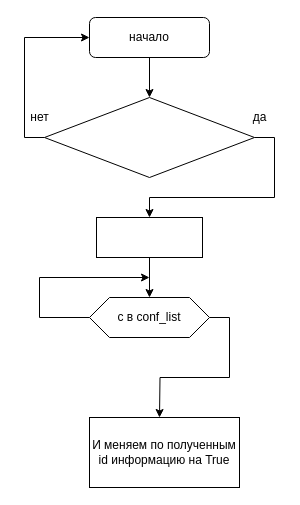
The diagram is 300 pixels wide and 505 high, and some of its shapes have lost their labels. The centre of each missing label's shape, as x and y in pixels:
"conf_list = getlist('conf')" belongs at (x=149, y=237).
"Метод POST?" belongs at (x=149, y=137).
